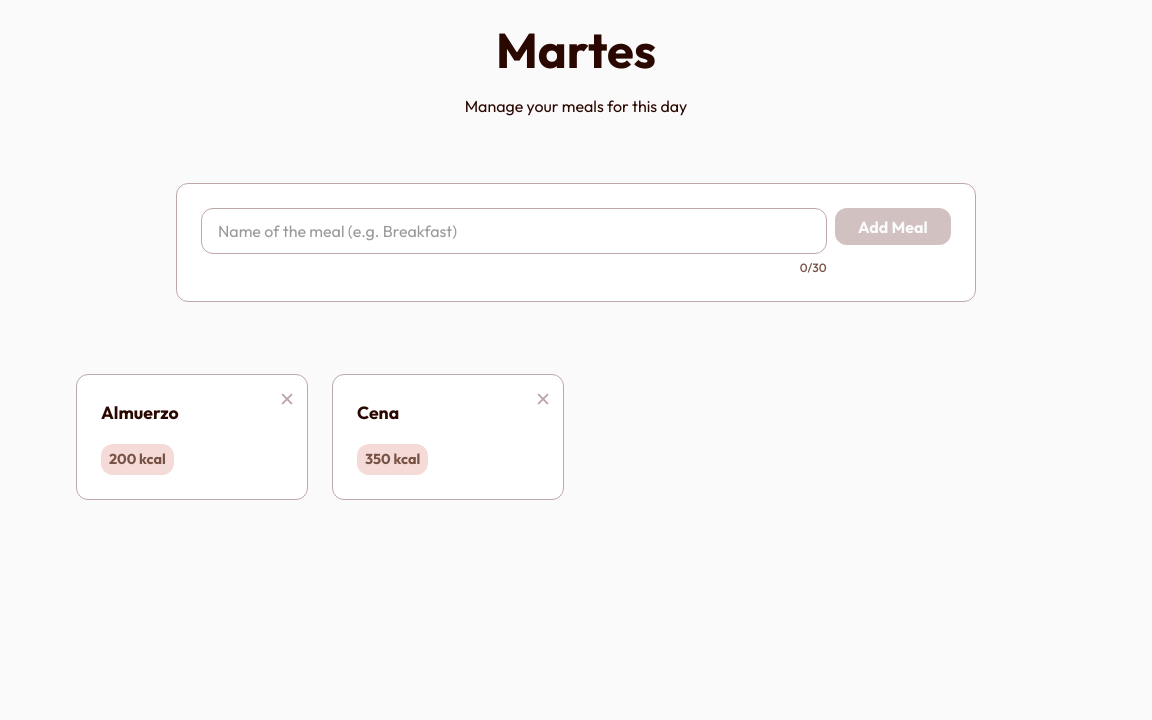
DayItem - Meals Management (Integration) › debe borrar una comida correctamente tras confirmar en el modal
The width and height of the screenshot is (1152, 720).
Later steps or results of the test are not shown.
// Abrir modal de borrado (usamos el título del botón/icono)
Step 1. Click the button titled "Delete meal" next to "Almuerzo" → (287, 400), box [275,384,299,416]
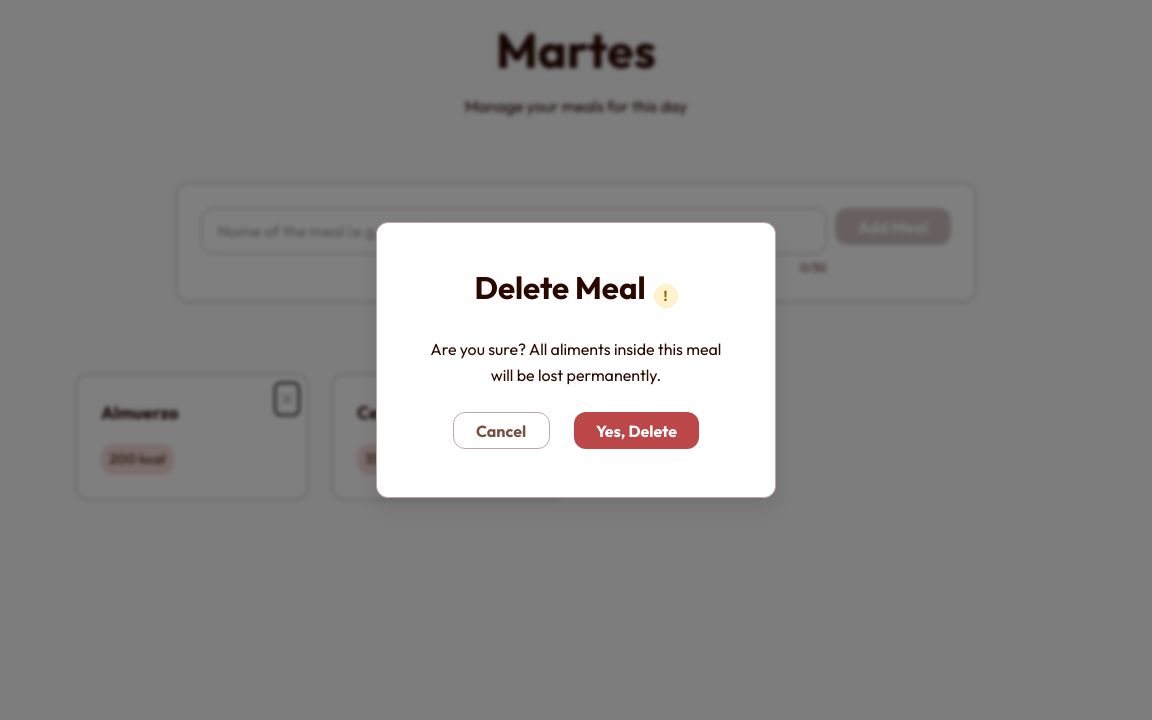
Expected: the heading "Delete Meal" is shown, [474,271,646,305]
